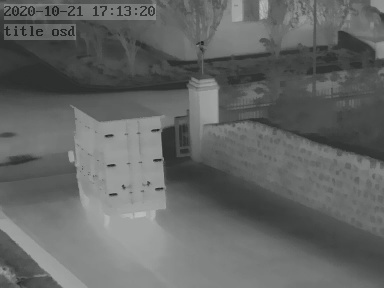vehicle: (73, 96, 165, 230)
